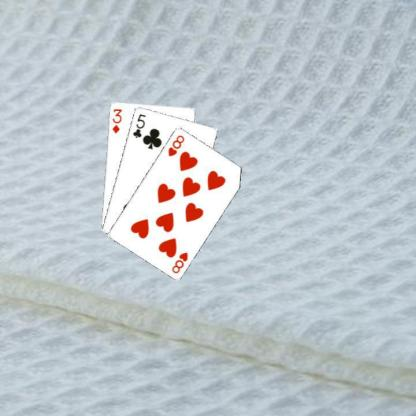3D: (110, 106, 123, 135)
5C: (130, 111, 147, 139)
8H: (166, 132, 186, 157), (169, 249, 189, 274)
